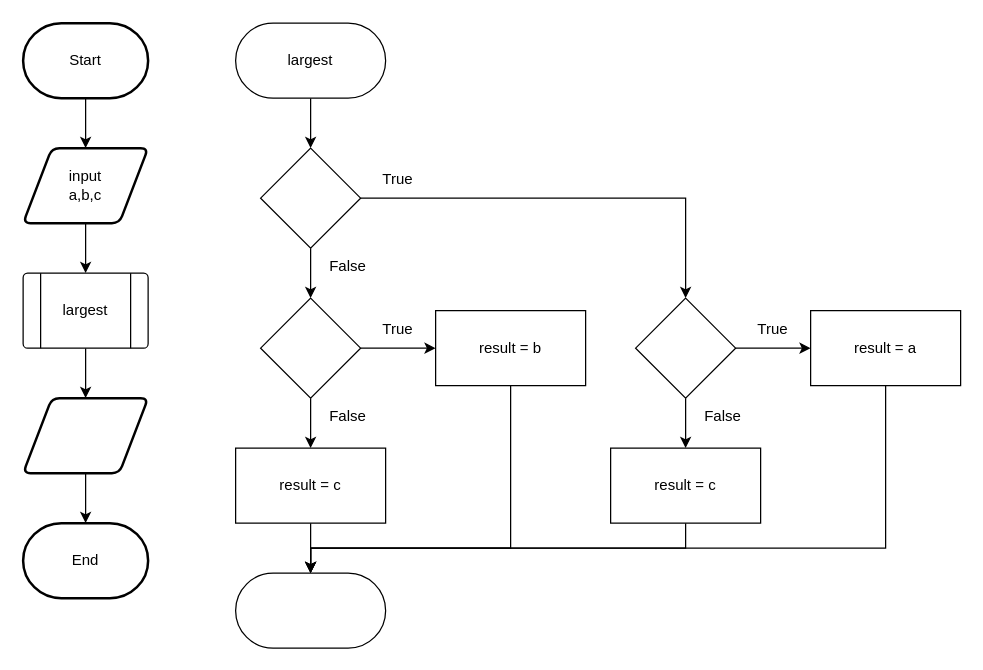
The diagram is 983 pixels wide and 670 high, and some of its shapes have lost their labels. The shapes that lost their labels are listed below. From the top down, each one's centre as x and y in pixels, then its label:
[310,197]: a <= b
[310,347]: b >= c
[685,347]: a >= c
[85,435]: print largest
[310,610]: return result
